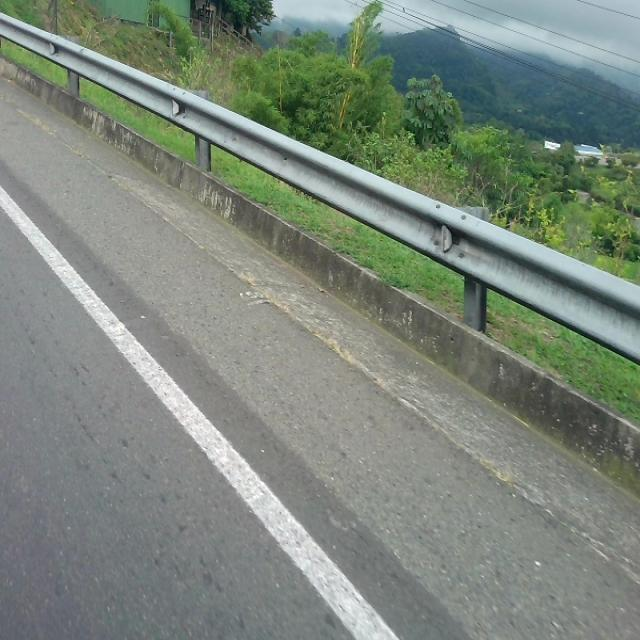DITCH: (1, 66, 639, 637), (1, 69, 638, 638)
